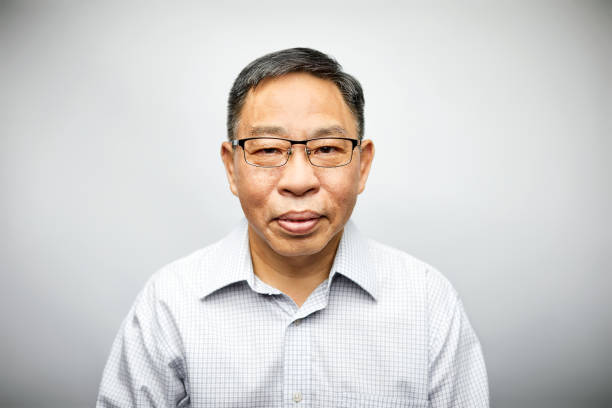person: (217, 46, 375, 265)
